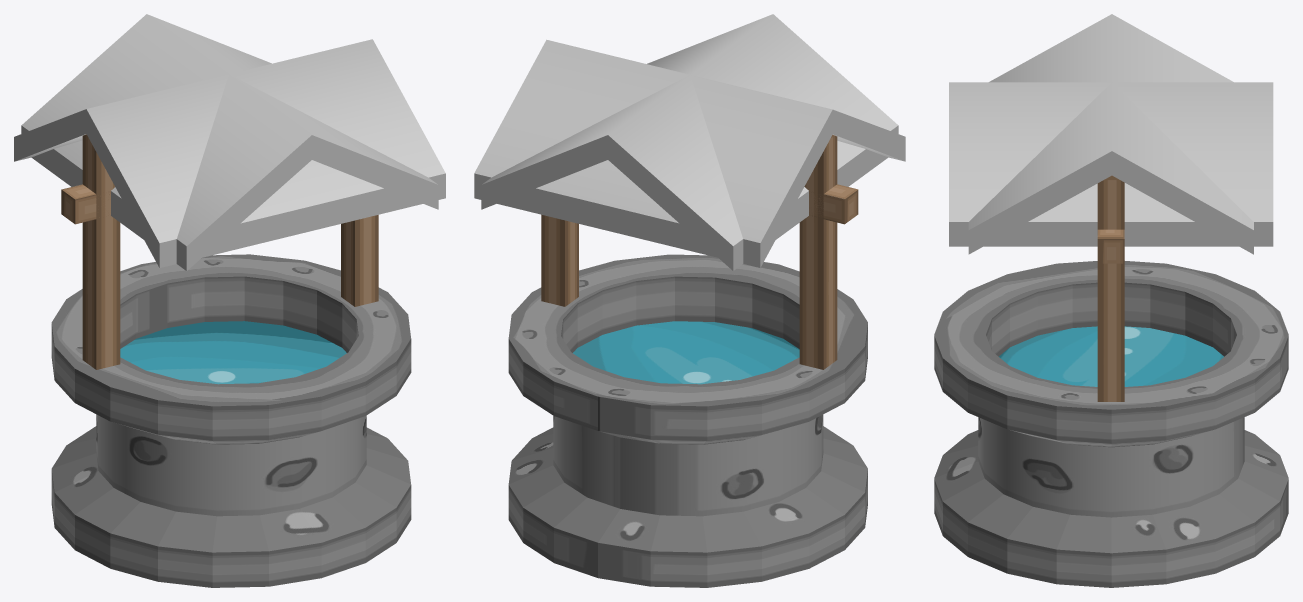
The model's file is wellYas.fbx.
3 renders of one model, left to right at view 1: azimuth 30°, elevation 25°; view 2: azimuth 150°, elevation 25°; view 3: azimuth 270°, elevation 25°, orthographic.
Visible parts, largest first — view 1: pasted__pCylinder50, pasted__pasted__pCube326, pasted__pCube329, pasted__pCube323; view 2: pasted__pCylinder50, pasted__pasted__pCube326, pasted__pCube329, pasted__pCube323; view 3: pasted__pCylinder50, pasted__pCube329, pasted__pasted__pCube326, pasted__pCube323.
Boxes of the visible parts, left/top/right/bottom form: pasted__pCylinder50: left=51, top=254, right=411, bottom=587; pasted__pasted__pCube326: left=14, top=39, right=445, bottom=267; pasted__pCube329: left=21, top=14, right=438, bottom=270; pasted__pCube323: left=61, top=134, right=378, bottom=369; pasted__pCylinder50: left=508, top=254, right=867, bottom=587; pasted__pasted__pCube326: left=474, top=39, right=905, bottom=267; pasted__pCube329: left=481, top=14, right=898, bottom=270; pasted__pCube323: left=541, top=135, right=858, bottom=369; pasted__pCylinder50: left=934, top=261, right=1288, bottom=587; pasted__pCube329: left=949, top=82, right=1273, bottom=246; pasted__pasted__pCube326: left=968, top=14, right=1253, bottom=254; pasted__pCube323: left=1097, top=175, right=1124, bottom=401.
Bounding box in the file's own units: 8.57 × 11.27 × 8.3.
